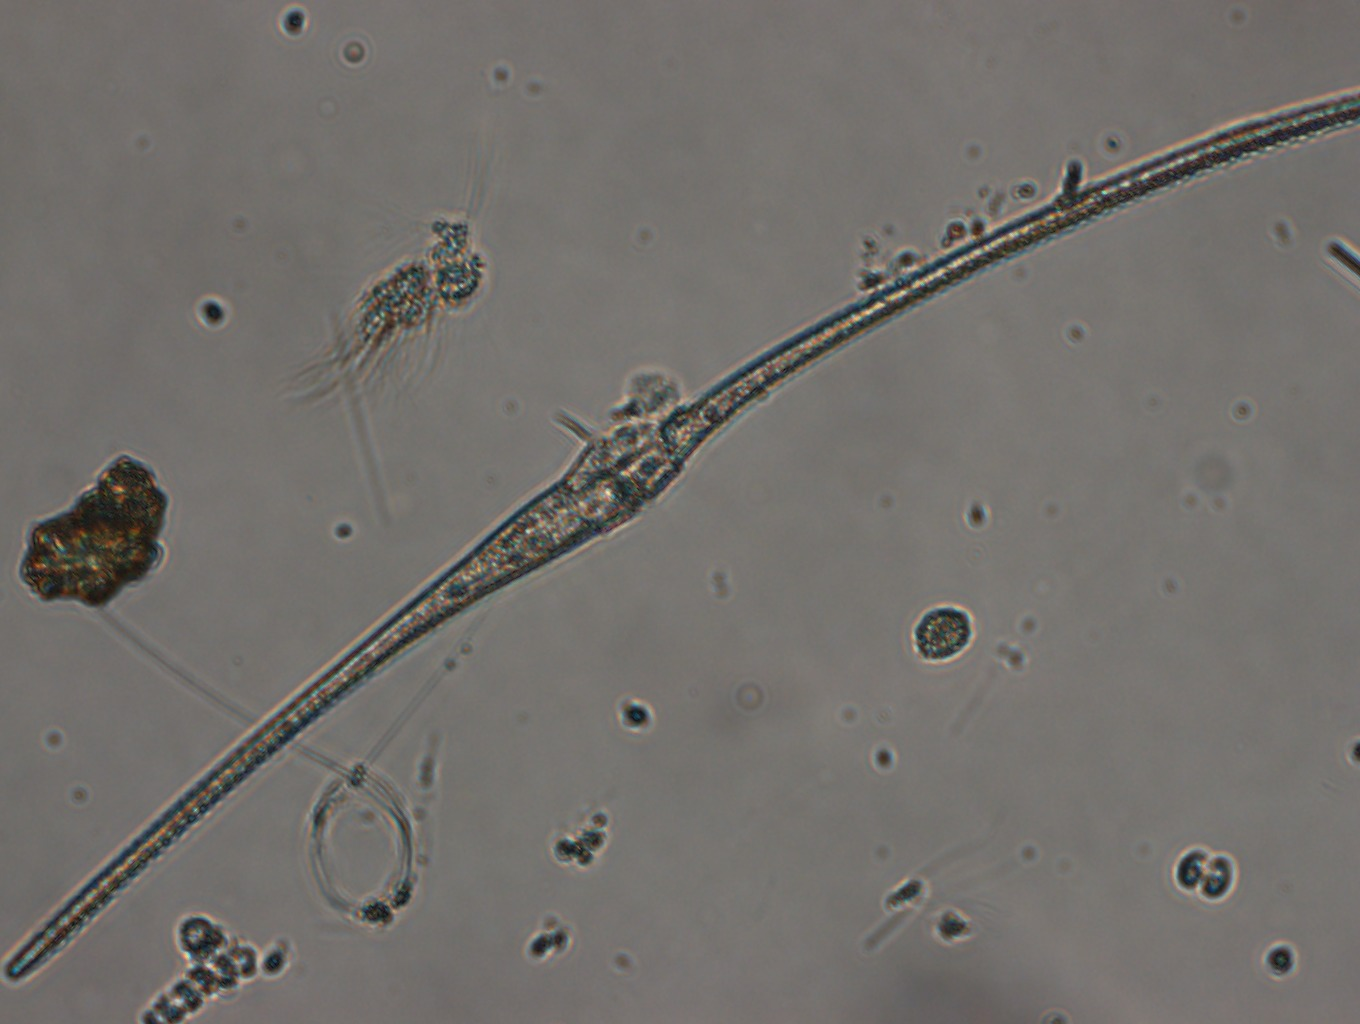ceratium fusus: (5, 80, 1360, 995)
